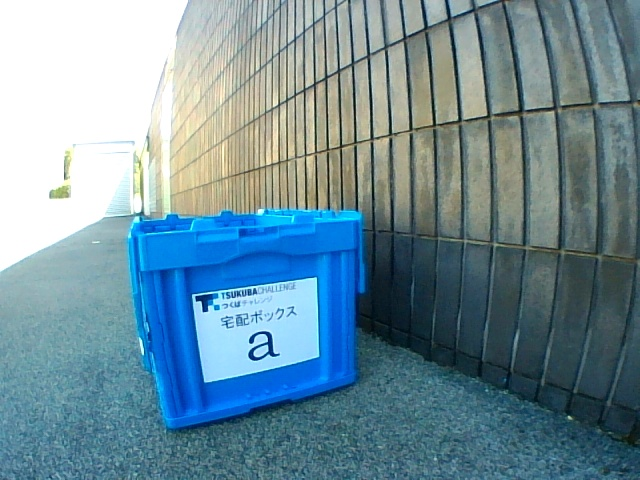blue_box: (127, 209, 364, 430)
tag_a: (217, 306, 291, 362)
